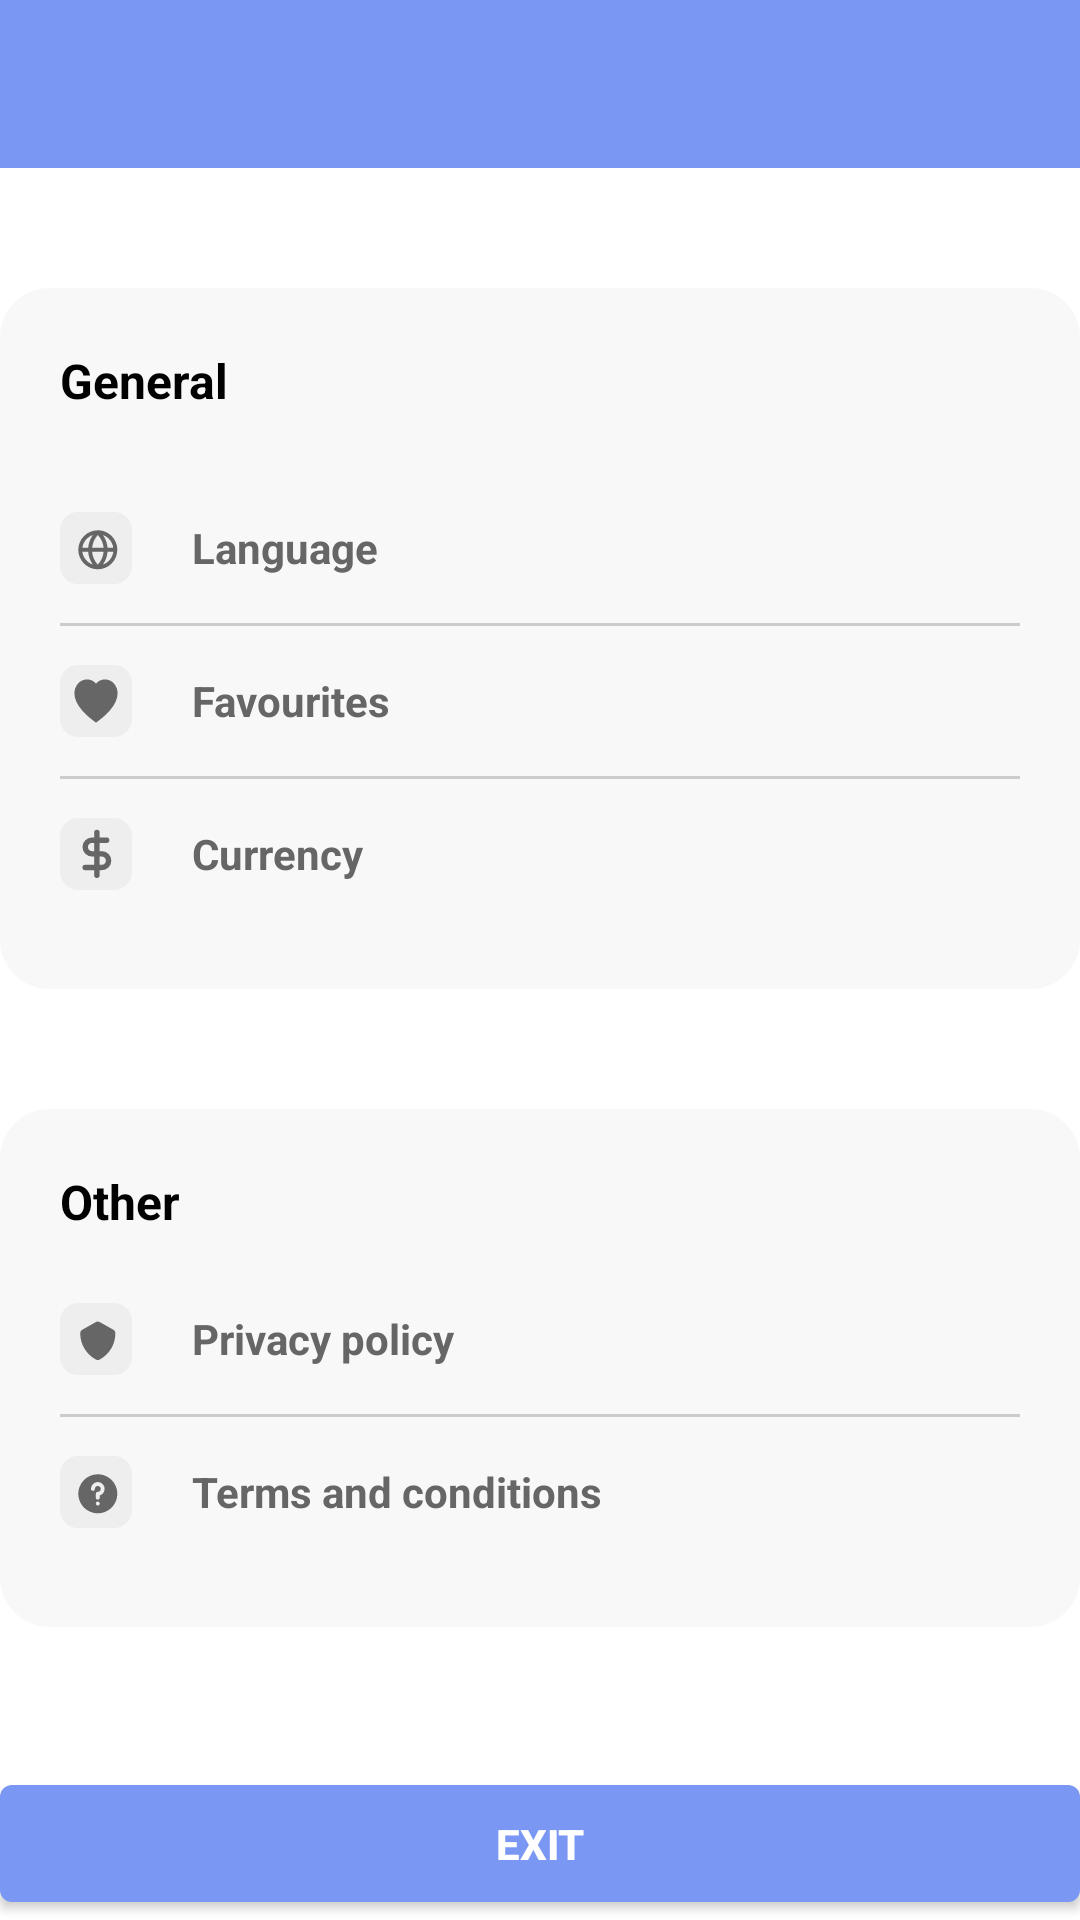

Icons on this 1080x1920 Android screen, each with the point to tap as [x,y]:
globe: [98,550]
heart: [96,701]
help: [98,1494]
shield: [98,1340]
